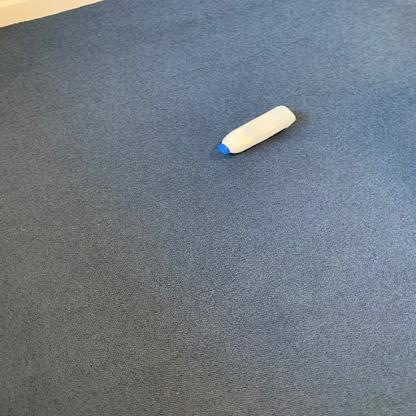trash: (217, 106, 298, 156)
